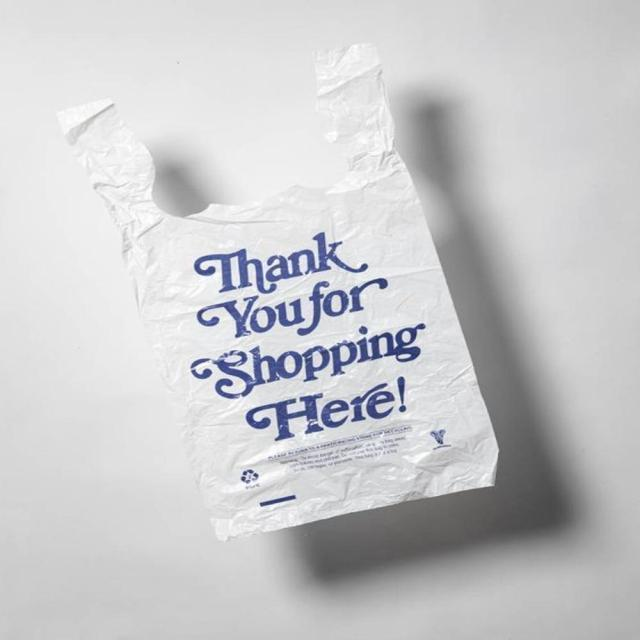Plastic_Bag: (51, 40, 504, 552)
